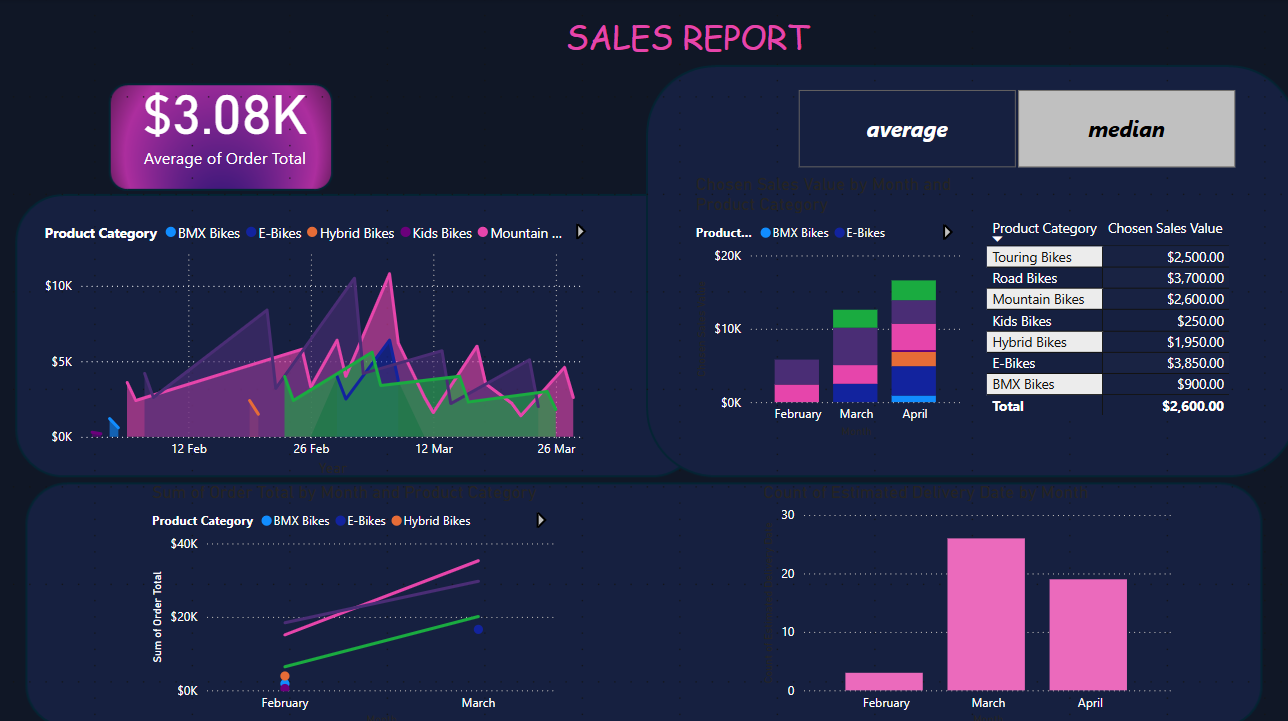

The page's visual inventory and layout, read from the dashboard file:
{"tool":"powerbi","page":{"name":"Sales Report","canvas":[1280,720],"ordinal":0},"visuals":[{"type":"textbox","box":[555.1,9.8,252.3,116.9],"z":0},{"type":"card","fields":{"Values":["Avg(Sales.Order Total)"]},"box":[98.5,25.8,252.3,184.6],"z":1000},{"type":"stackedAreaChart","fields":{"Series":["Sales.Product Category"],"Category":["Sales.Order Date.Variation.Date Hierarchy.Year","Sales.Order Date.Variation.Date Hierarchy.Quarter","Sales.Order Date.Variation.Date Hierarchy.Month","Sales.Order Date.Variation.Date Hierarchy.Day"],"Y":["Sum(Sales.Order Total)"]},"box":[42.4,209.5,549.8,265.6],"z":2000},{"type":"slicer","fields":{"Values":["Calculation method.calc method"]},"box":[762.5,82.5,480,90],"z":3000},{"type":"lineStackedColumnComboChart","fields":{"Series":["Sales.Product Category"],"Category":["Sales.Estimated Delivery Date.Variation.Date Hierarchy.Month"],"Y":["StatisticOption.Chosen Sales Value"]},"box":[683.1,172.3,272,264.6],"z":4000},{"type":"pivotTable","fields":{"Rows":["Sales.Product Category"],"Values":["StatisticOption.Chosen Sales Value"]},"box":[970,209.5,273,245.6],"z":5000},{"type":"lineChart","fields":{"Category":["Sales.Order Date.Variation.Date Hierarchy.Month"],"Y":["Sum(Sales.Order Total)"],"Series":["Sales.Product Category"]},"box":[147.1,475,407.7,245.6],"z":6000},{"type":"columnChart","fields":{"Y":["CountNonNull(Sales.Estimated Delivery Date)"],"Category":["Sales.Estimated Delivery Date.Variation.Date Hierarchy.Month"]},"box":[749.3,475,412.7,245.6],"z":7000}]}

Visuals, with their boxes in screenshot pixels (x1, y1, x2, y2), scaled from the page's 1280x720 canvas onto the 1288x721 screenshot:
textbox: [x1=559, y1=10, x2=812, y2=127]
card - Avg(Sales.Order Total): [x1=99, y1=26, x2=353, y2=211]
stackedAreaChart - Sales.Product Category x Sales.Order Date.Variation.Date Hierarchy.Year: [x1=43, y1=210, x2=596, y2=476]
slicer - Calculation method.calc method: [x1=767, y1=83, x2=1250, y2=173]
lineStackedColumnComboChart - Sales.Product Category x Sales.Estimated Delivery Date.Variation.Date Hierarchy.Month: [x1=687, y1=173, x2=961, y2=438]
pivotTable - Sales.Product Category x StatisticOption.Chosen Sales Value: [x1=976, y1=210, x2=1251, y2=456]
lineChart - Sales.Order Date.Variation.Date Hierarchy.Month x Sum(Sales.Order Total): [x1=148, y1=476, x2=558, y2=720]
columnChart - CountNonNull(Sales.Estimated Delivery Date) x Sales.Estimated Delivery Date.Variation.Date Hierarchy.Month: [x1=754, y1=476, x2=1169, y2=720]
